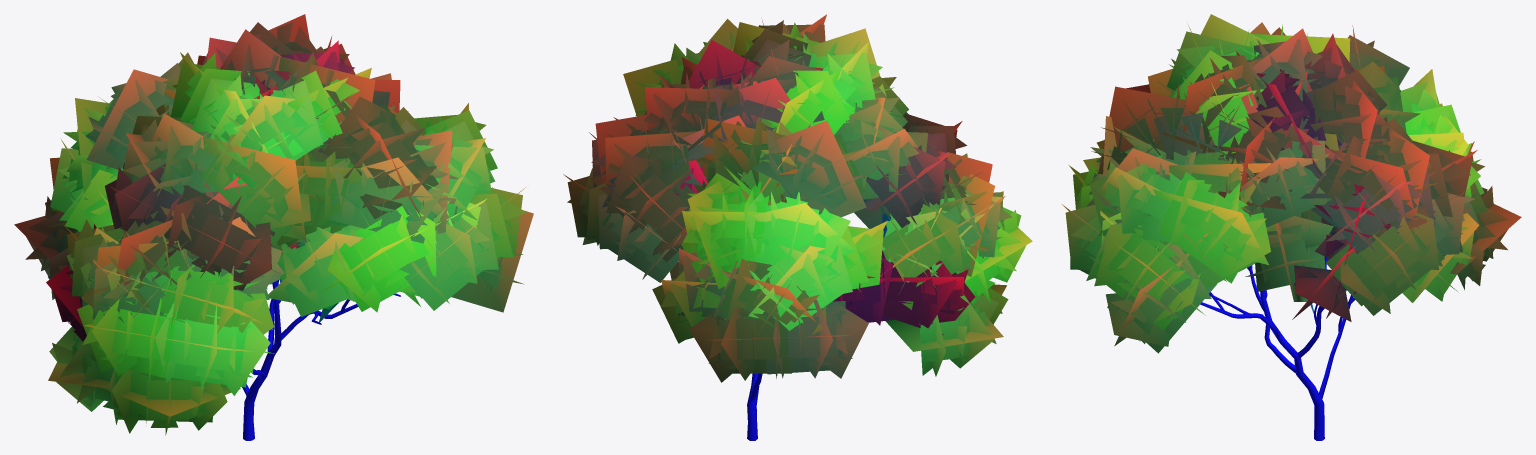
Rendered from SM_Tree_WhiteOak_002_B.fbx.
The picture shows the model from 3 angles, left to right: view 1: azimuth 30°, elevation 25°; view 2: azimuth 150°, elevation 25°; view 3: azimuth 270°, elevation 25°; orthographic projection. The views are drawn at different scales.
Visible parts, largest first — view 1: SM_Tree_WhiteOak_002_B_LOD0; view 2: SM_Tree_WhiteOak_002_B_LOD0; view 3: SM_Tree_WhiteOak_002_B_LOD0.
Boxes of the visible parts, x1,y1,x2,y2 form: SM_Tree_WhiteOak_002_B_LOD0: [14, 14, 533, 440]; SM_Tree_WhiteOak_002_B_LOD0: [563, 14, 1032, 440]; SM_Tree_WhiteOak_002_B_LOD0: [1062, 14, 1521, 440].
Size of what is drawn, in the model's own units: 2006 by 1874 by 1932.
